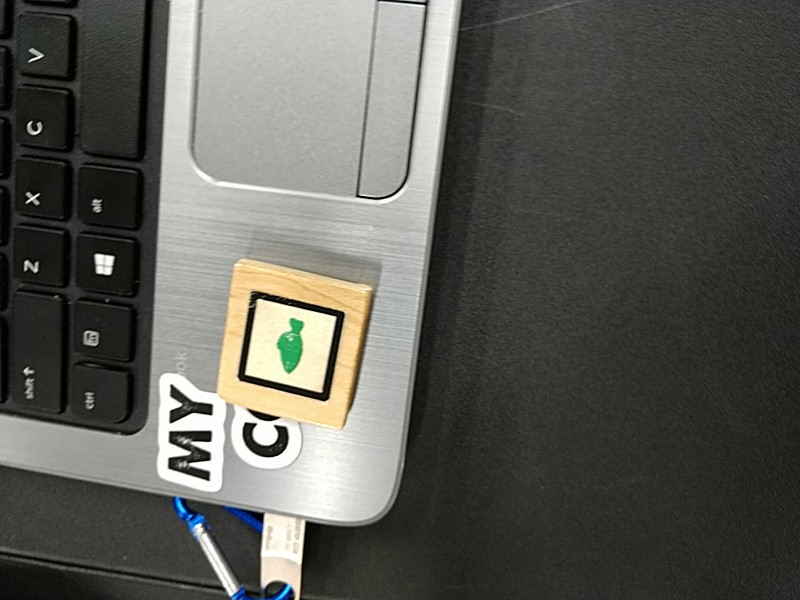Fish Tile: (237, 289, 345, 404)
